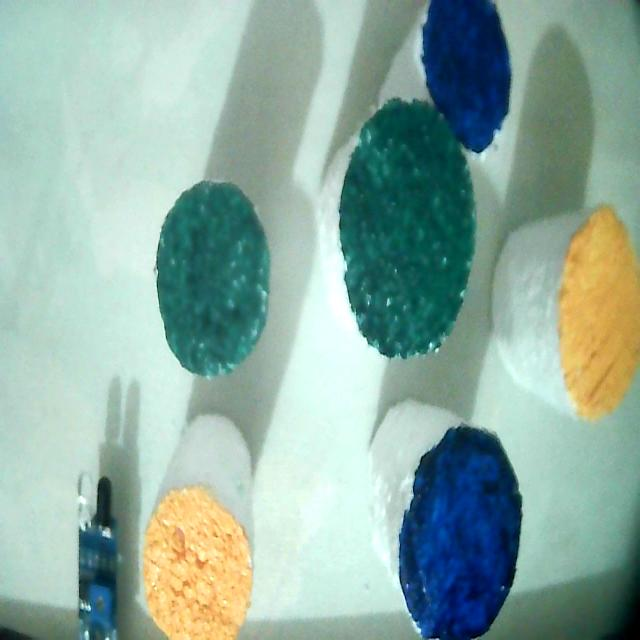blue: (59, 101, 294, 262), (397, 424, 521, 639), (399, 424, 521, 639), (422, 0, 511, 152)
green: (339, 100, 475, 358), (157, 182, 269, 377)
yellow: (558, 208, 639, 420), (143, 489, 253, 639)
